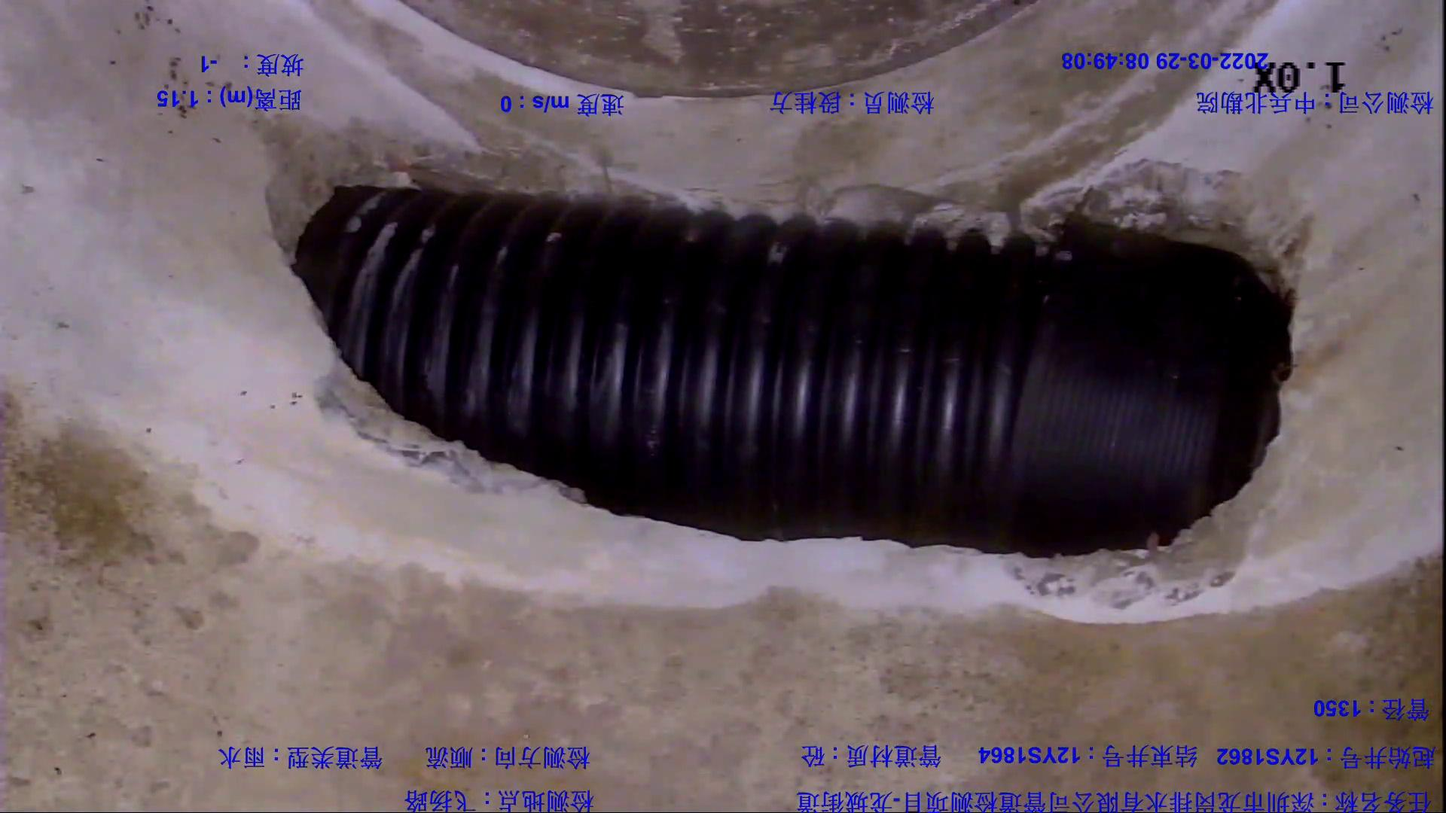YWCR: (292, 187, 1294, 556)
